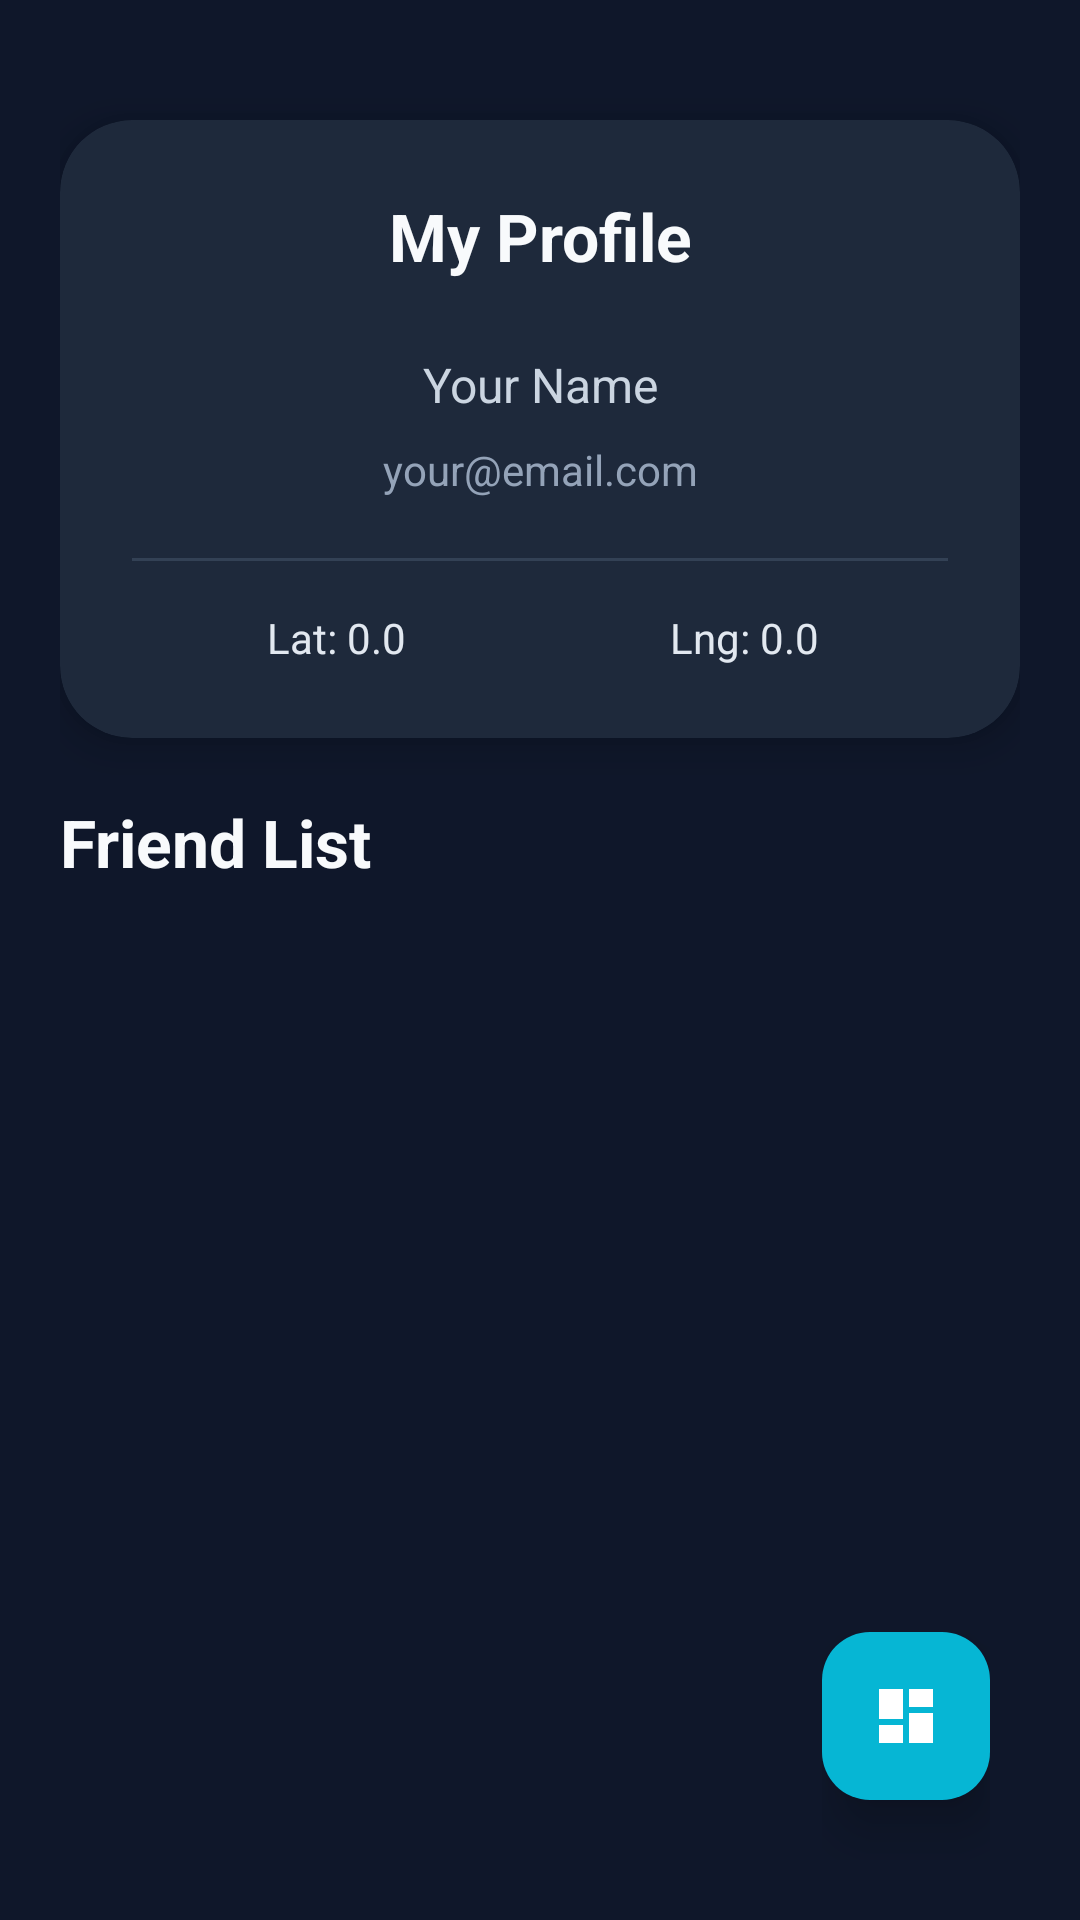

Screen size 1080 x 1920. Icon name, then its center in pixels as point (x, y):
Menu: point (906, 1716)
